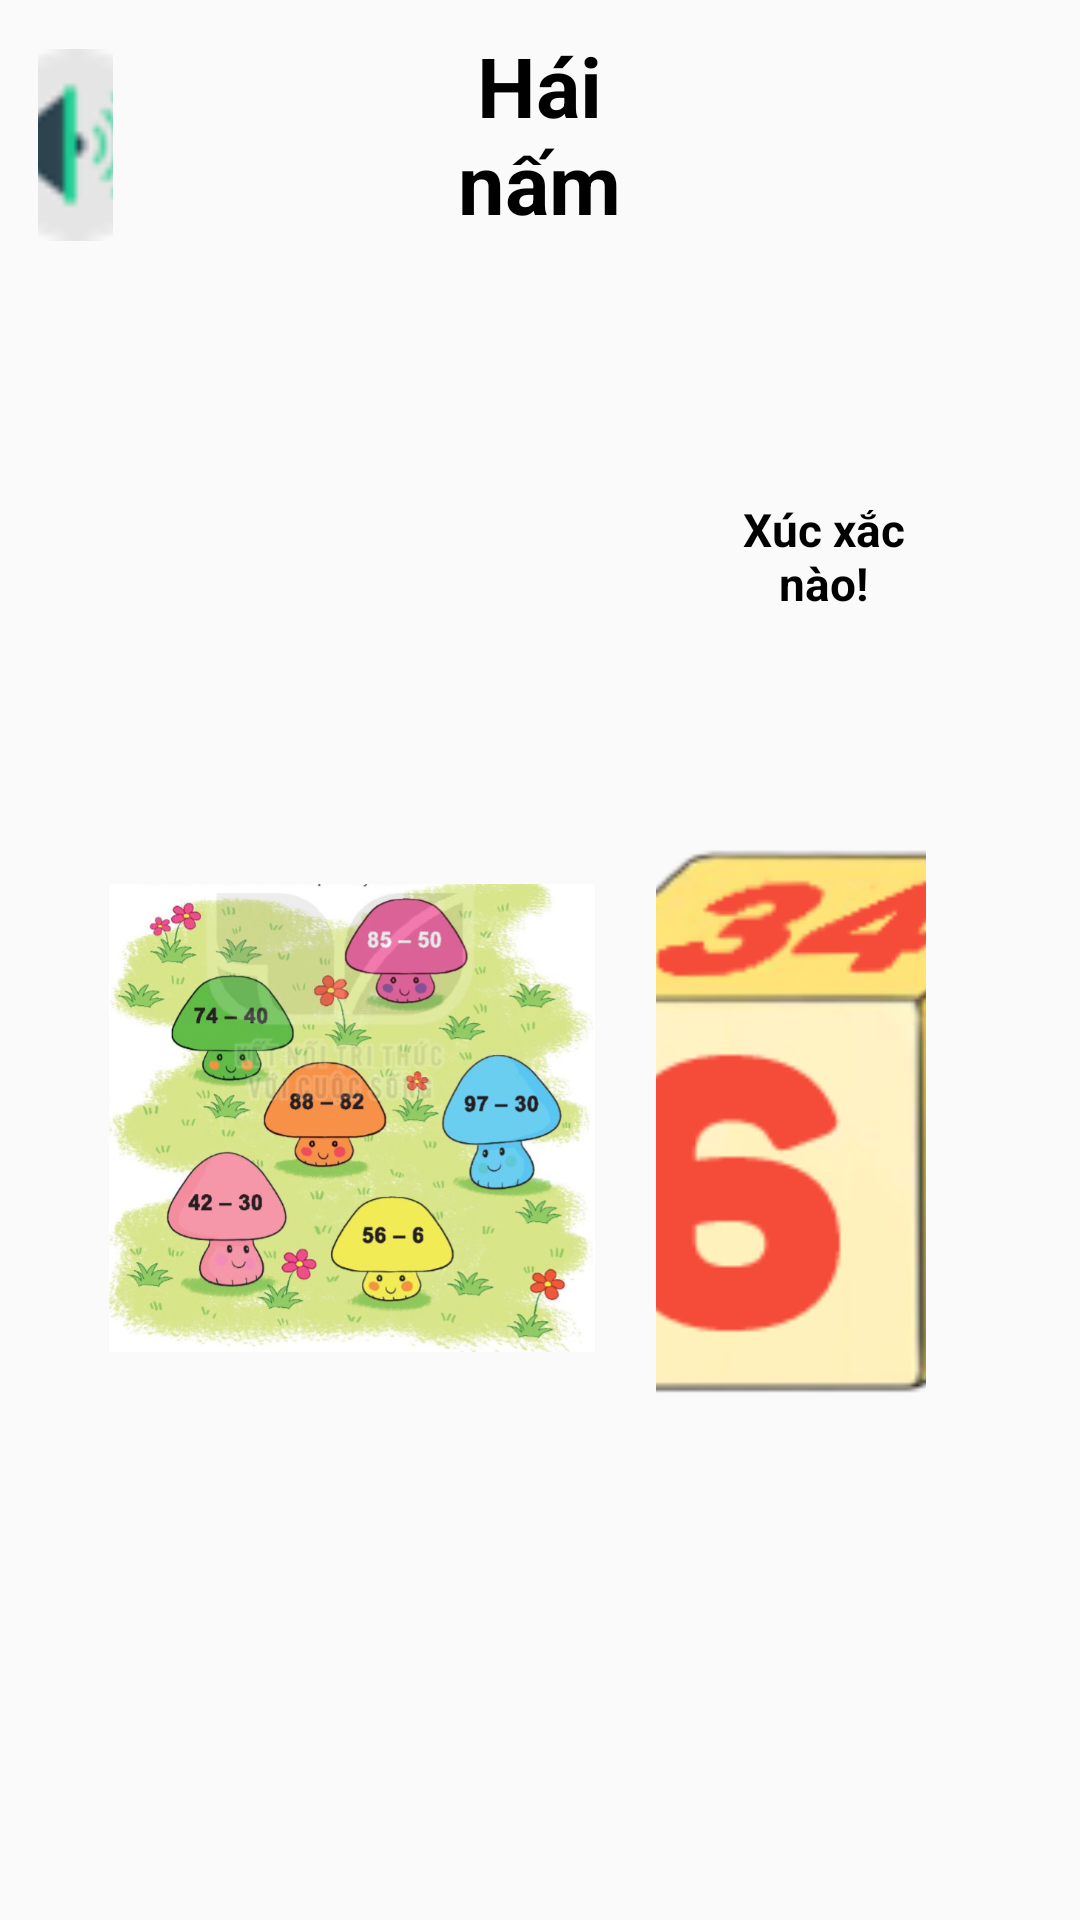

Where icons sit on this 1080px x 1920px app screen, as (x1=x1, y1=y1, x2=x2, y2=y2):
sound on: (x1=38, y1=82, x2=113, y2=208)
